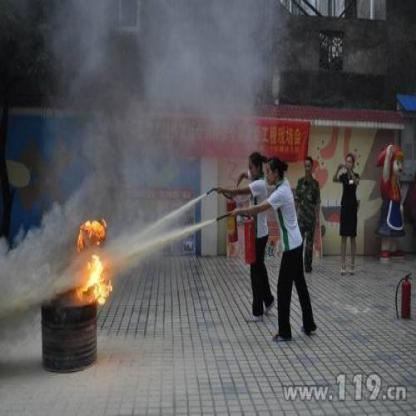fire: (66, 216, 115, 300)
other: (316, 110, 402, 197), (167, 108, 309, 156), (231, 200, 261, 262)
smoke: (158, 2, 263, 110), (19, 216, 75, 288), (98, 121, 152, 189), (78, 18, 107, 83)
